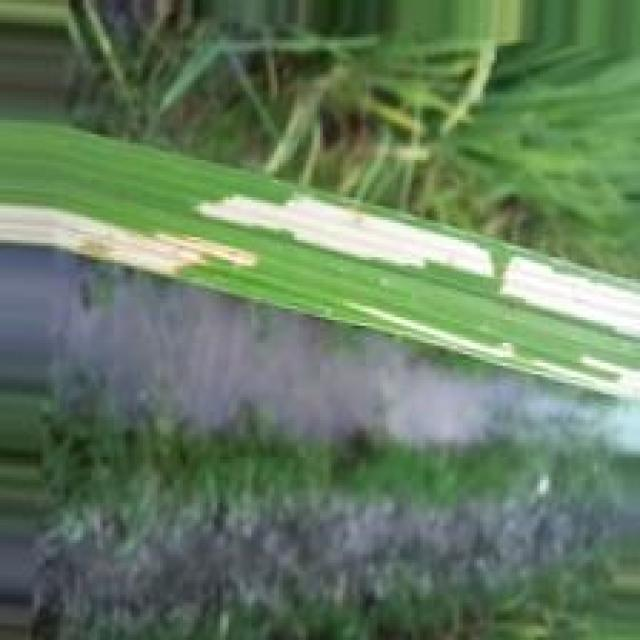Rice_Hispa: (335, 303, 640, 408), (190, 192, 488, 275), (4, 203, 262, 273), (499, 255, 640, 347)
